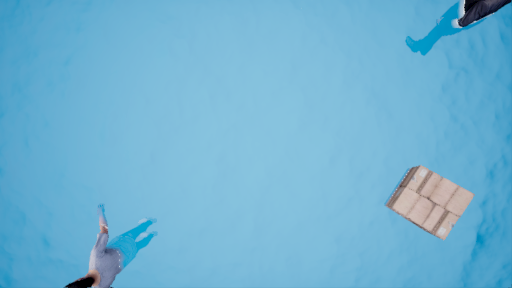person: (69, 201, 158, 286)
